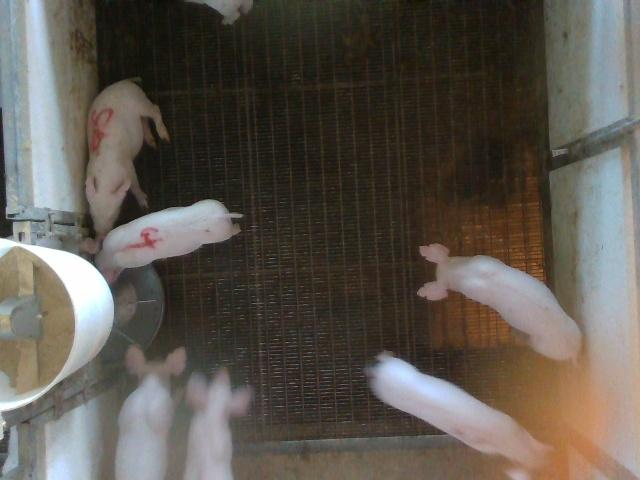pig-4: (95, 199, 242, 282)
pig-5: (86, 80, 170, 243)
